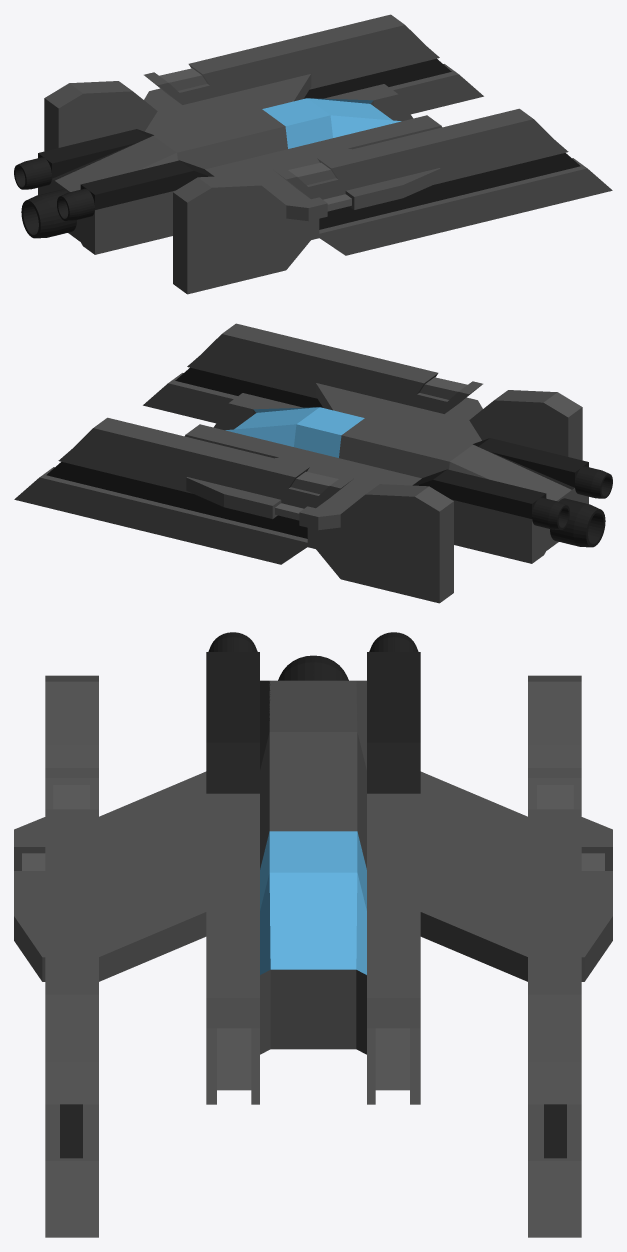
File: Ketraptor.fbx
3 renders of one model, top to bottom at view 1: azimuth 30°, elevation 25°; view 2: azimuth 150°, elevation 25°; view 3: azimuth 270°, elevation 25°, orthographic. The views are drawn at different scales.
Visible parts, largest first — view 1: Cube; view 2: Cube; view 3: Cube.
Part boxes in pixels (box(x1,y1,x2,y2)): Cube: box(14, 14, 612, 294); Cube: box(14, 323, 612, 603); Cube: box(14, 632, 612, 1237).
Size of the model in its own units: 2063 by 389 by 1117.
